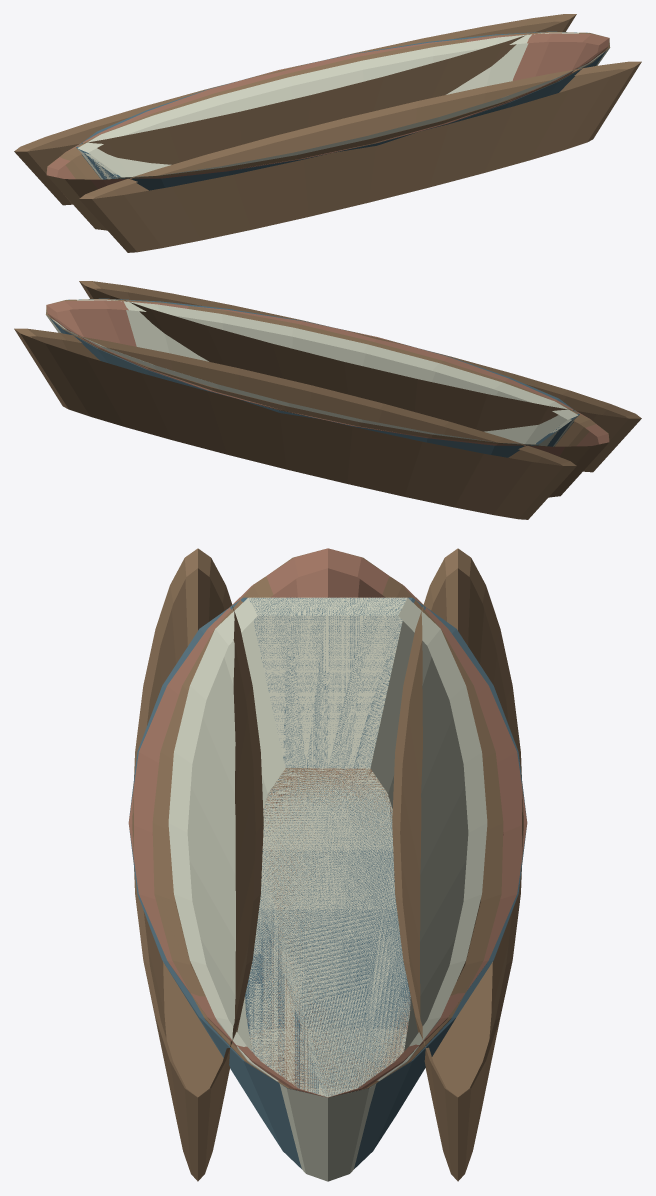
File: sea-boat-hulls-v002.glb
3 renders of one model, top to bottom at view 1: azimuth 30°, elevation 25°; view 2: azimuth 150°, elevation 25°; view 3: azimuth 270°, elevation 25°, orthographic. The views are drawn at different scales.
Visible parts, largest first — view 1: Separate twin hull, Separate twin hull.001, Original open timber hull, Original open timber hull.002, Original open timber hull.001, Original open timber hull.003; view 2: Separate twin hull.001, Separate twin hull, Original open timber hull, Original open timber hull.002, Original open timber hull.001, Original open timber hull.003; view 3: Original open timber hull, Original open timber hull.003, Separate twin hull.001, Separate twin hull, Original open timber hull.002, Original open timber hull.001.
Part boxes in pixels (bbox=[...]): Separate twin hull: bbox=[79, 61, 641, 252]; Separate twin hull.001: bbox=[14, 14, 576, 205]; Original open timber hull: bbox=[77, 32, 610, 179]; Original open timber hull.002: bbox=[46, 33, 609, 188]; Original open timber hull.001: bbox=[46, 32, 609, 230]; Original open timber hull.003: bbox=[76, 31, 609, 190]; Separate twin hull.001: bbox=[14, 328, 576, 519]; Separate twin hull: bbox=[79, 281, 641, 472]; Original open timber hull: bbox=[45, 299, 578, 446]; Original open timber hull.002: bbox=[46, 300, 609, 456]; Original open timber hull.001: bbox=[46, 299, 609, 497]; Original open timber hull.003: bbox=[46, 298, 579, 457]; Original open timber hull: bbox=[168, 597, 487, 1181]; Original open timber hull.003: bbox=[129, 597, 526, 1168]; Separate twin hull.001: bbox=[392, 548, 523, 1181]; Separate twin hull: bbox=[132, 548, 263, 1181]; Original open timber hull.002: bbox=[128, 548, 527, 1097]; Original open timber hull.001: bbox=[152, 550, 503, 1096].
Bounding box in the file's own units: 6 × 0.67 × 1.84.
